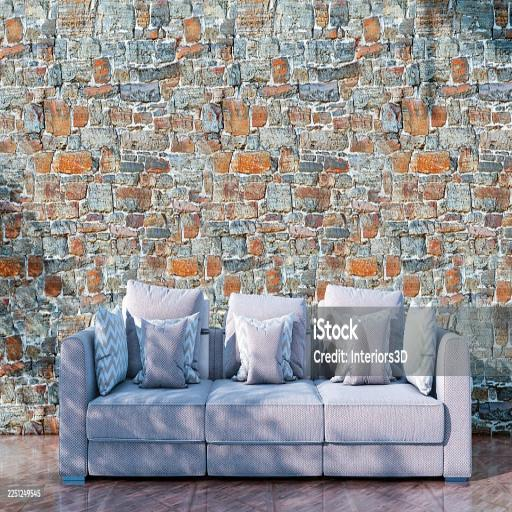back_cushion: (122, 280, 308, 378), (324, 284, 404, 348)
base: (89, 441, 442, 476)
left_arm: (436, 328, 470, 479)
right_arm: (59, 327, 98, 479)
seat_cushion: (86, 380, 444, 445)
stallion-sofa2: (59, 280, 470, 484)
